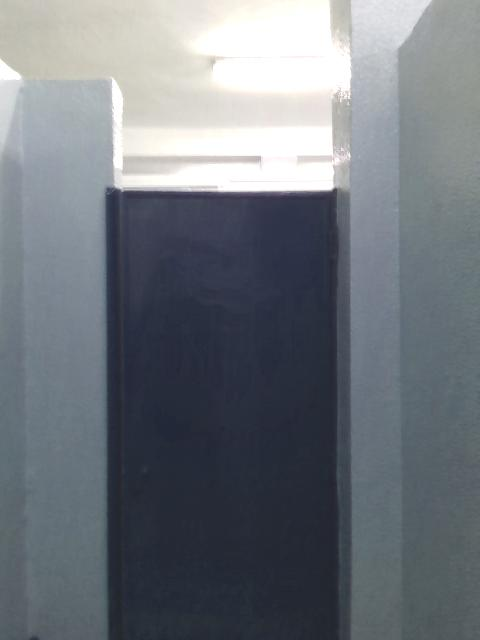closed_door: (103, 184, 348, 638)
